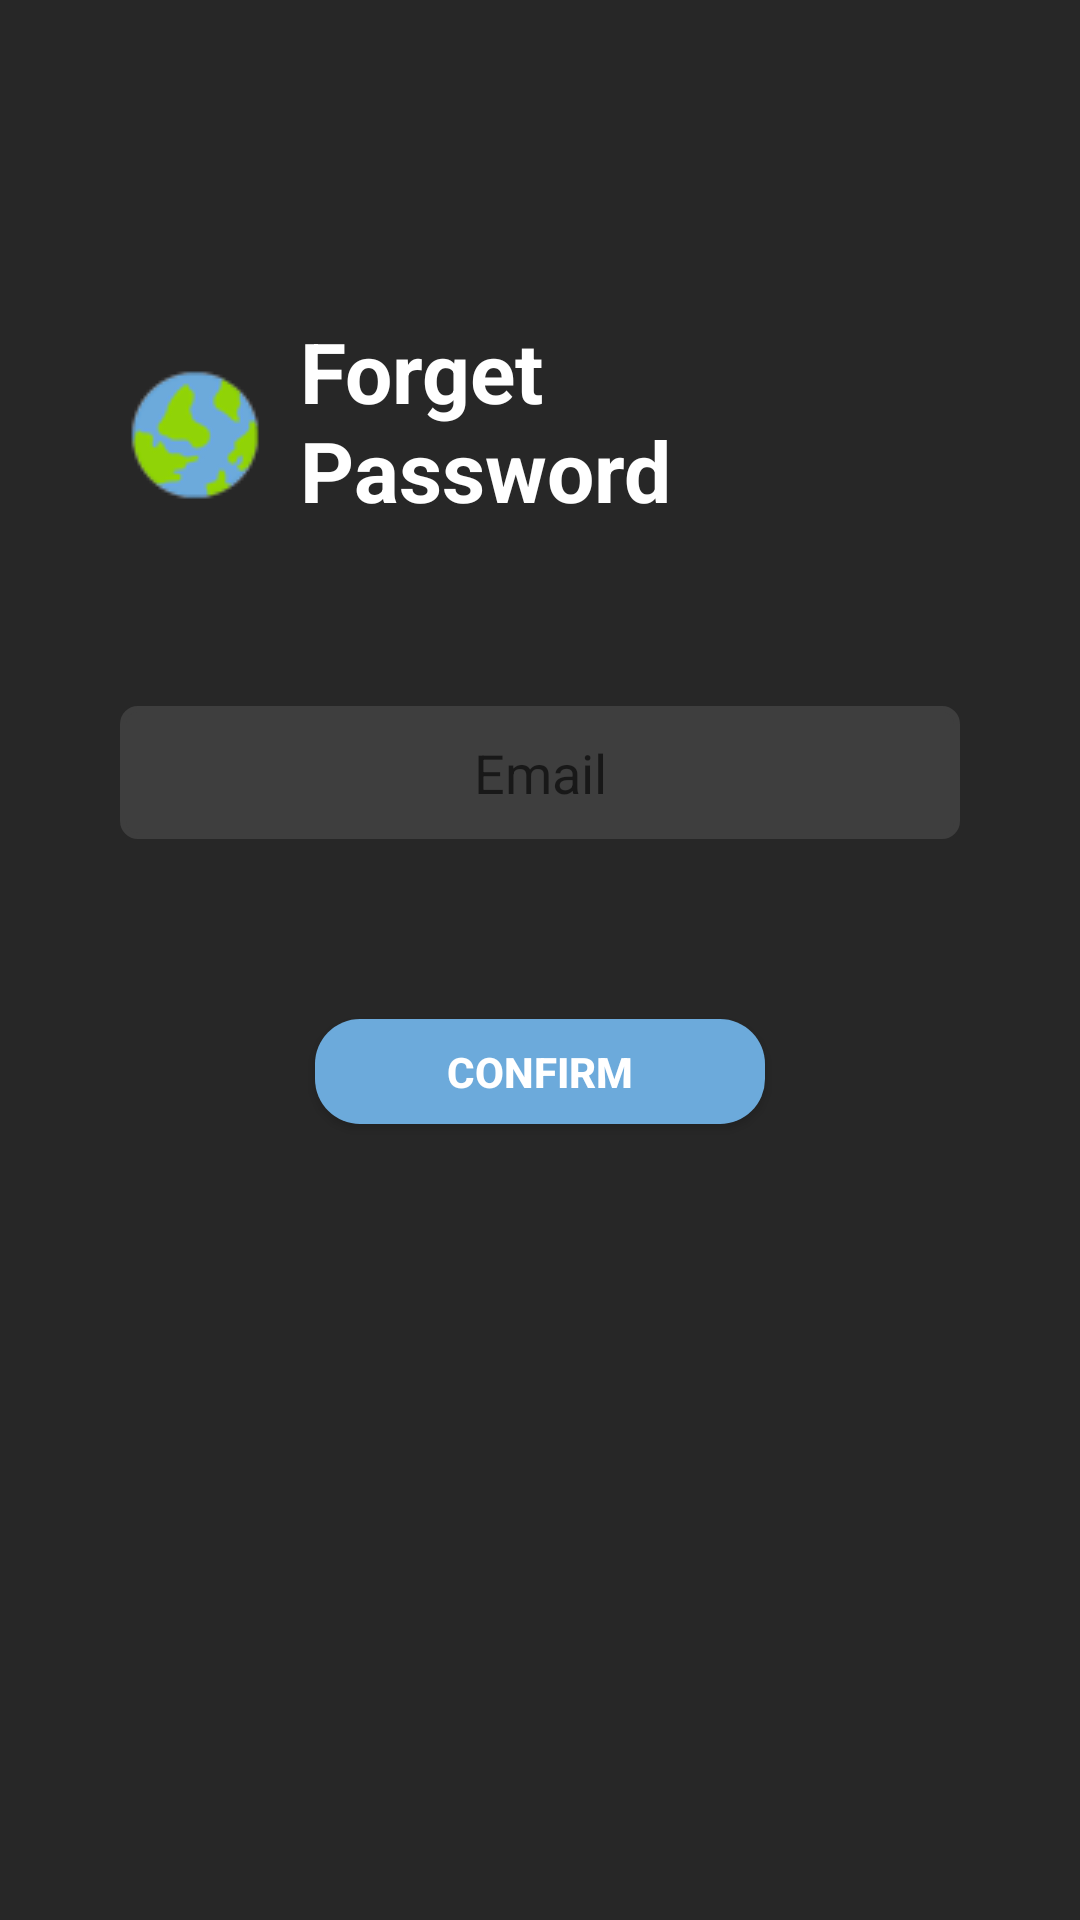

Screen size 1080px x 1920px. Icon name, then its box in pixels as bbox=(x1, y1, x2, y2):
smallglobe: bbox=(131, 371, 259, 499)
